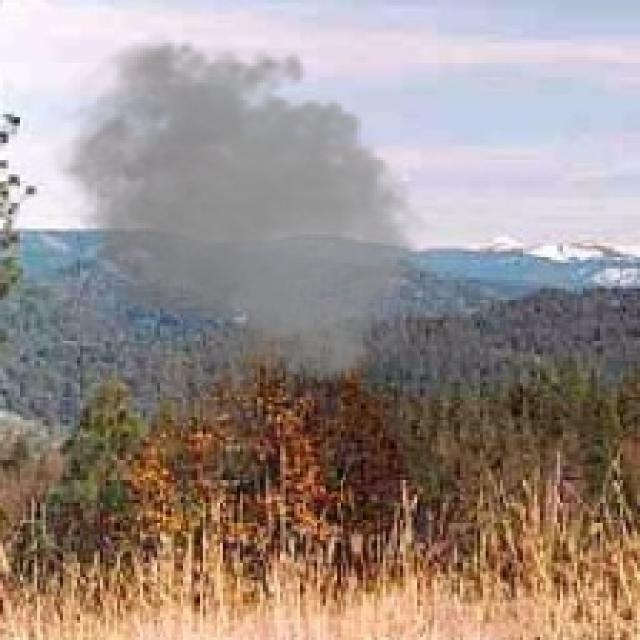Smoke: (39, 28, 434, 386)
